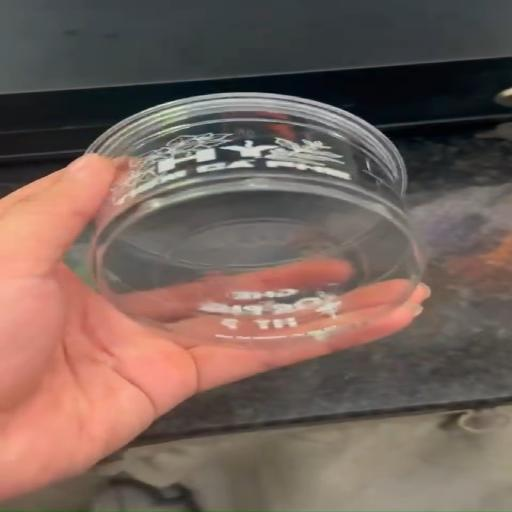ly_nhua: (86, 92, 421, 345)
